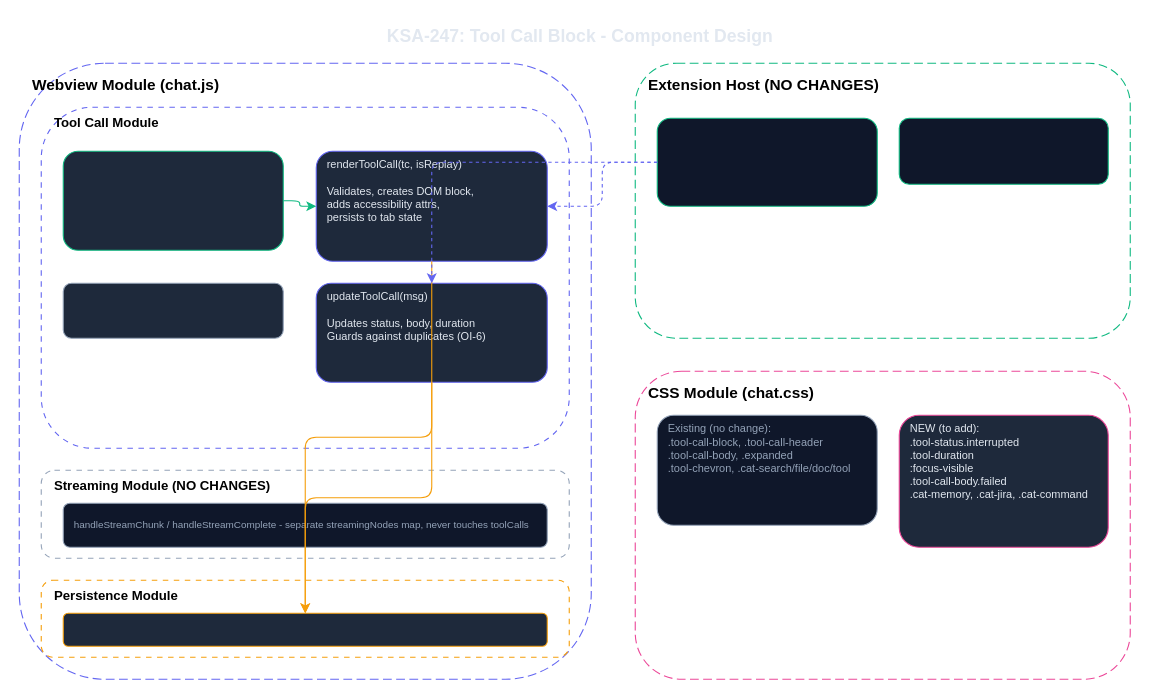
The diagram is 1150 pixels wide and 699 high, and some of its shapes have lost their labels. Each missing label, with the centre of its shape:
categorizeTool(name) prefixMap[] priority matching Returns: {icon, label, cls}: (172,200)
ChatPanelProvider saveChatState() / restoreChatState() sendToWebview(): (766,161)
LangGraphEngine emits chat:toolCall / toolCallUpdate: (1003,150)
saveStateToDisk() - debounced 500ms, includes toolData in messages: (304,629)
statusIcon(status) + formatDuration(ms): (172,310)
